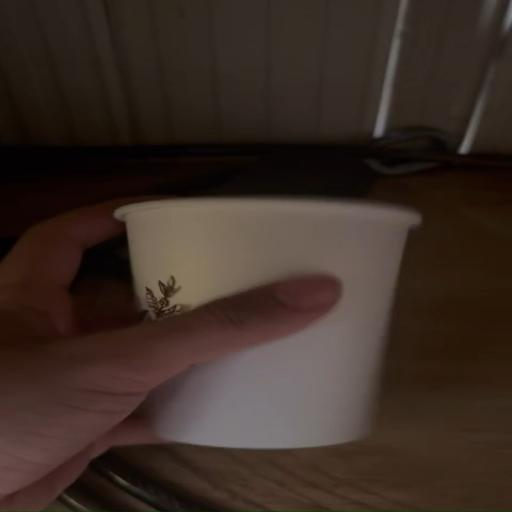Ly_giay: (115, 195, 420, 448)
